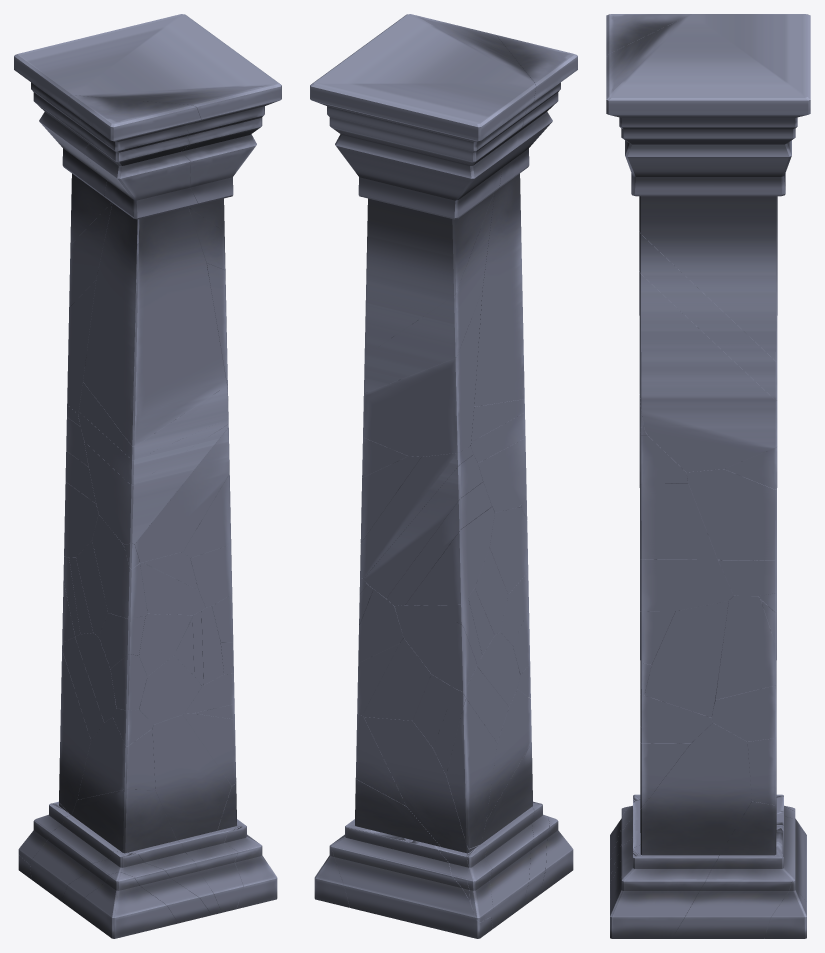
Rendered from BrokenColumn.fbx.
3 views of the same model, side by side, from view 1: azimuth 30°, elevation 25°; view 2: azimuth 150°, elevation 25°; view 3: azimuth 270°, elevation 25° (orthographic). The views are drawn at different scales.
Parts seen in each view (by area): view 1: Column_cell.013, Column_cell.001, Column_cell.045, Column_cell.042, Column_cell.051, Column_cell.019, Column_cell.065, Column_cell.068, Column_cell.055, Column_cell.050, Column_cell.040, Column_cell.010 (+6 smaller); view 2: Column_cell.045, Column_cell.013, Column_cell.001, Column_cell.030, Column_cell.050, Column_cell.016, Column_cell.042, Column_cell.053, Column_cell.062, Column_cell.008, Column_cell.068, Column_cell.011 (+3 smaller); view 3: Column_cell.045, Column_cell.013, Column_cell.050, Column_cell.008, Column_cell.069, Column_cell.011, Column_cell.028, Column_cell.039, Column_cell.055, Column_cell.022, Column_cell.030, Column_cell.001 (+2 smaller).
Boxes of the visible parts, x1,y1,x2,y2 form: Column_cell.013: (18, 633, 277, 938); Column_cell.001: (66, 95, 226, 446); Column_cell.045: (14, 14, 281, 307); Column_cell.042: (78, 382, 228, 544); Column_cell.051: (99, 613, 192, 710); Column_cell.019: (121, 427, 229, 562); Column_cell.065: (174, 593, 233, 686); Column_cell.068: (92, 514, 147, 618); Column_cell.055: (183, 673, 236, 785); Column_cell.050: (67, 263, 228, 413); Column_cell.040: (140, 552, 205, 614); Column_cell.010: (139, 655, 201, 724); Column_cell.045: (310, 14, 535, 393); Column_cell.013: (314, 632, 573, 938); Column_cell.001: (474, 35, 577, 406); Column_cell.030: (360, 446, 491, 606); Column_cell.050: (363, 290, 482, 456); Column_cell.016: (394, 588, 494, 691); Column_cell.042: (470, 399, 526, 512); Column_cell.053: (405, 507, 494, 605); Column_cell.062: (362, 638, 431, 720); Column_cell.008: (360, 437, 421, 543); Column_cell.068: (489, 496, 528, 594); Column_cell.011: (358, 576, 403, 662); Column_cell.045: (606, 14, 810, 400); Column_cell.013: (610, 723, 806, 938); Column_cell.050: (639, 271, 777, 472); Column_cell.008: (686, 447, 777, 559); Column_cell.069: (644, 601, 728, 717); Column_cell.011: (715, 593, 776, 699); Column_cell.028: (639, 484, 717, 559); Column_cell.039: (640, 559, 733, 611); Column_cell.055: (640, 694, 712, 809); Column_cell.022: (711, 684, 776, 741); Column_cell.030: (718, 557, 776, 595); Column_cell.001: (606, 14, 691, 56).
Size of the model in its own units: 220 by 1003 by 220.
